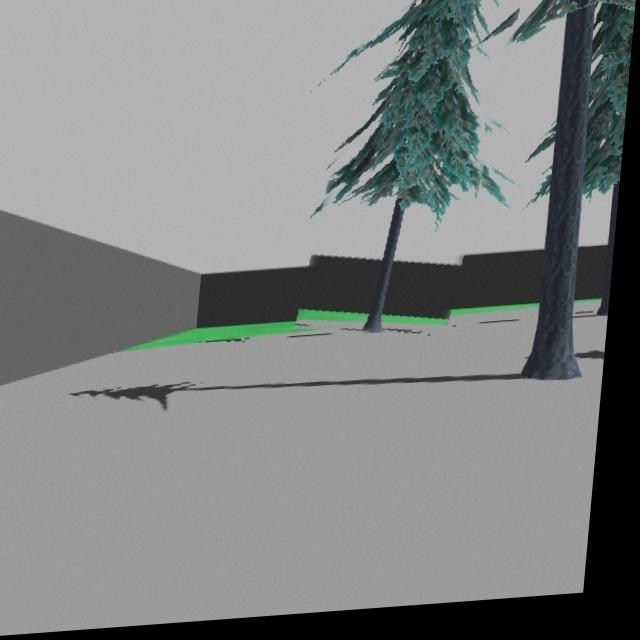tree: (330, 0, 488, 341)
